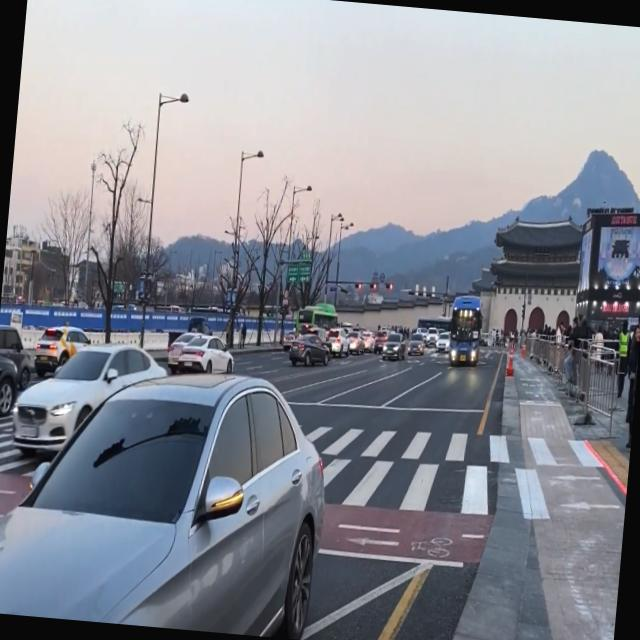bus-number: (459, 308, 472, 318)
